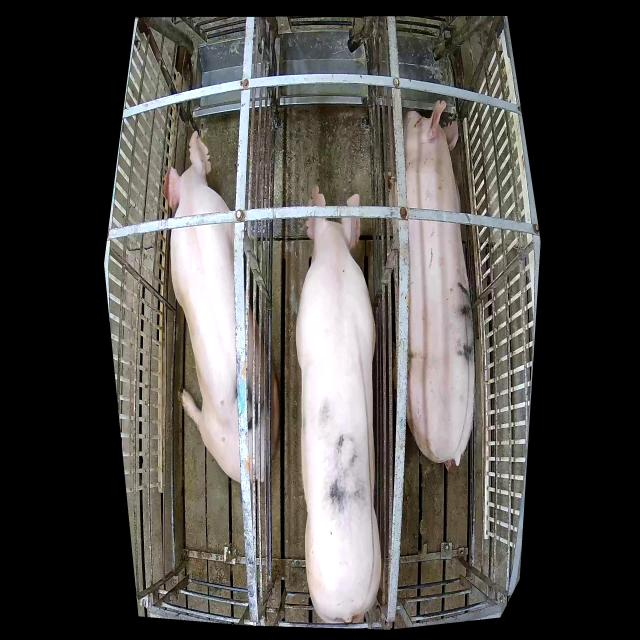pig: (161, 129, 278, 485), (295, 183, 381, 622), (402, 100, 475, 468)
